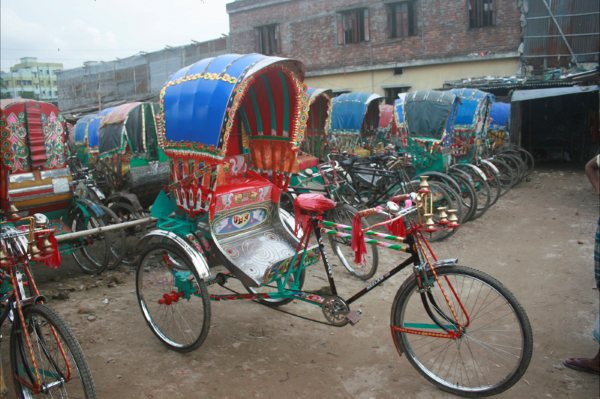Rickshaw: (129, 56, 541, 385), (3, 92, 84, 275), (326, 78, 405, 243), (399, 84, 469, 242), (99, 95, 165, 259), (72, 98, 114, 269), (305, 73, 347, 243), (452, 81, 497, 214), (484, 89, 523, 194)
